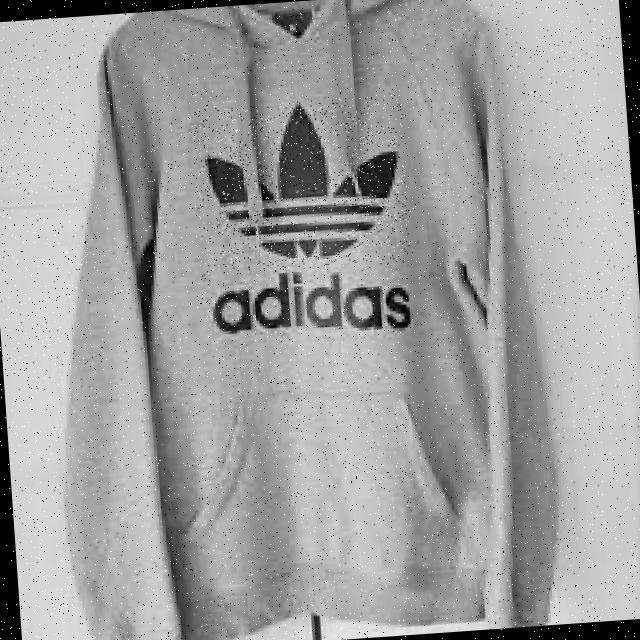Adidas: (190, 94, 411, 276)
